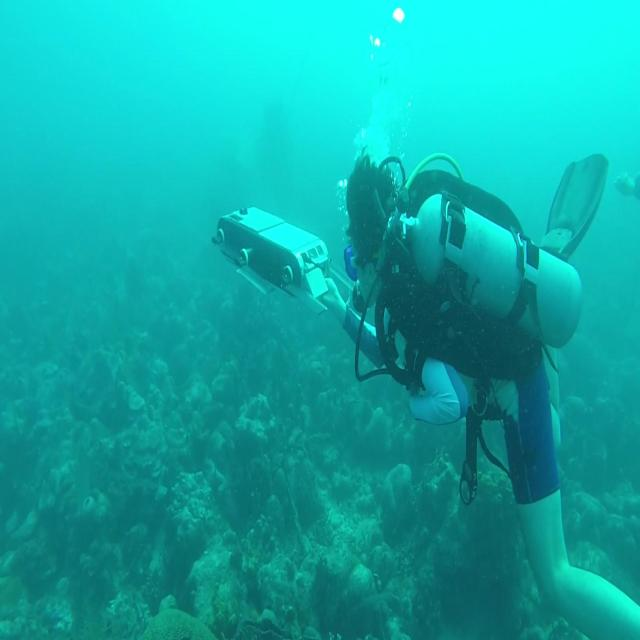human: (212, 147, 638, 638)
